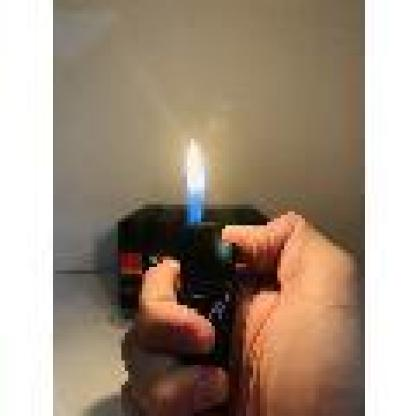Fire: (185, 139, 203, 215)
